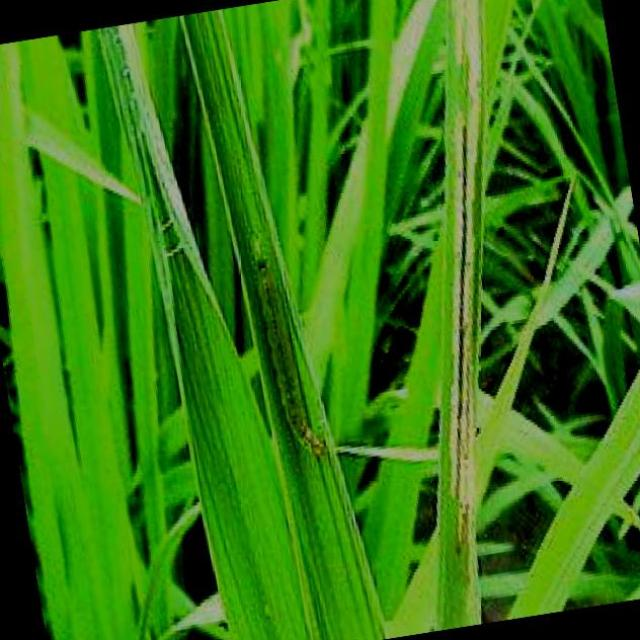leaf folder: (312, 437, 343, 455)
